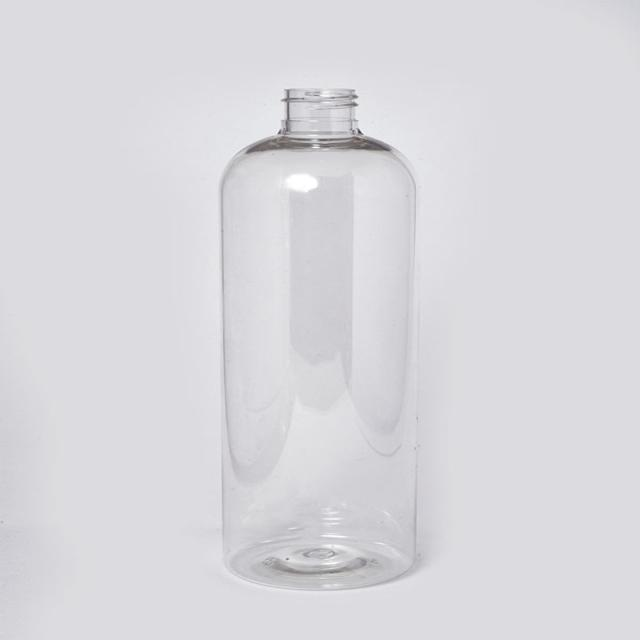bottom: (228, 538, 413, 589)
neck: (218, 89, 419, 189)
